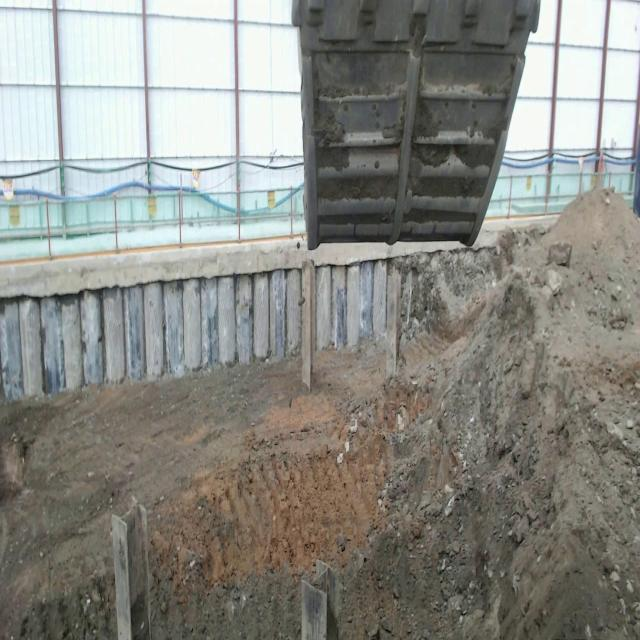red-sand: (0, 191, 640, 639)
